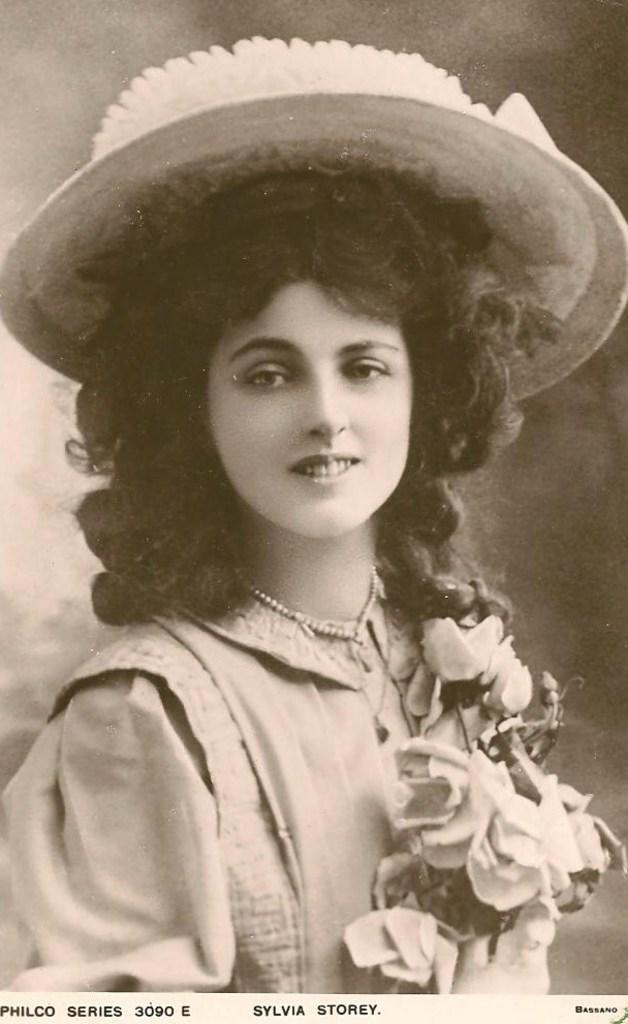Hat: (0, 32, 626, 404)
